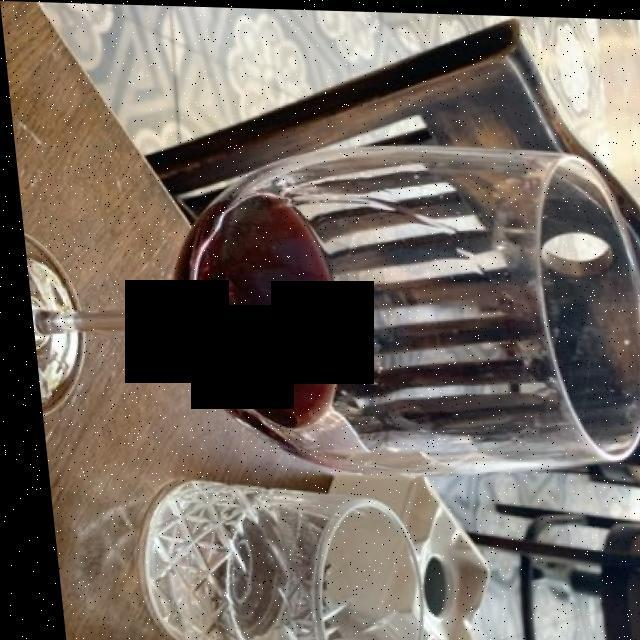wine: (184, 207, 327, 421)
